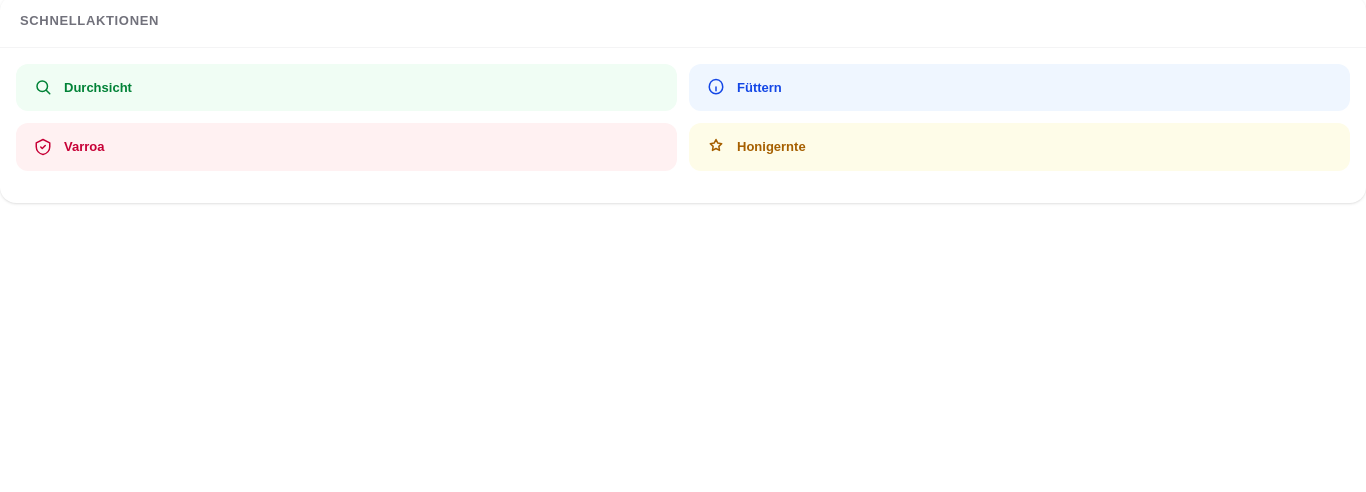
ColonyQuickActions › shows error message when API fails and does not refresh
Click the button "Füttern": (759, 87) [689,64,1350,111]
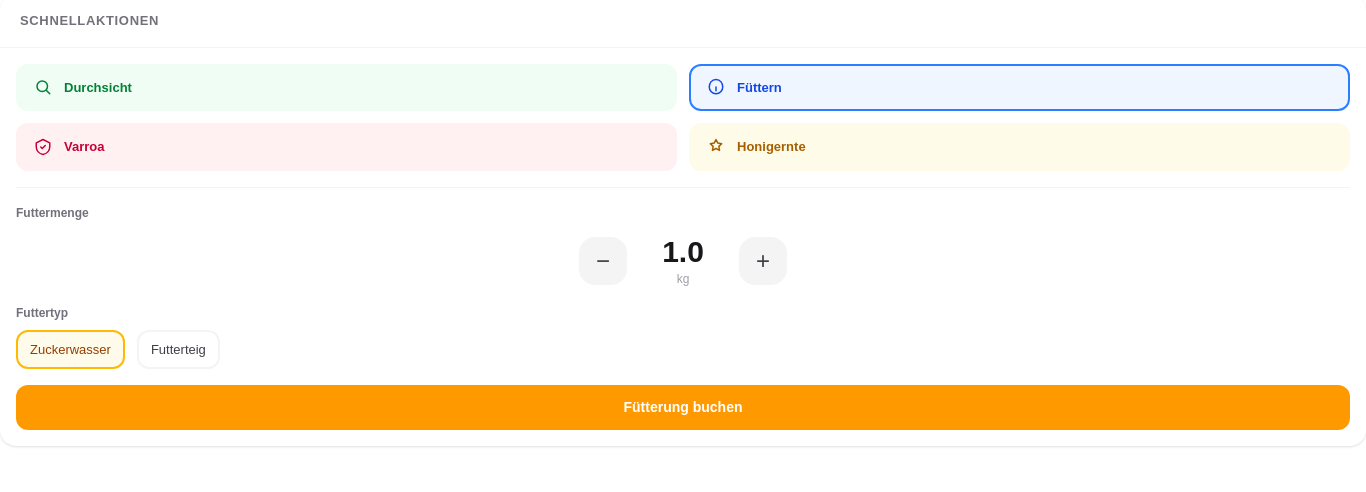
Click the button "Fütterung buchen": (683, 408) [16,385,1350,430]
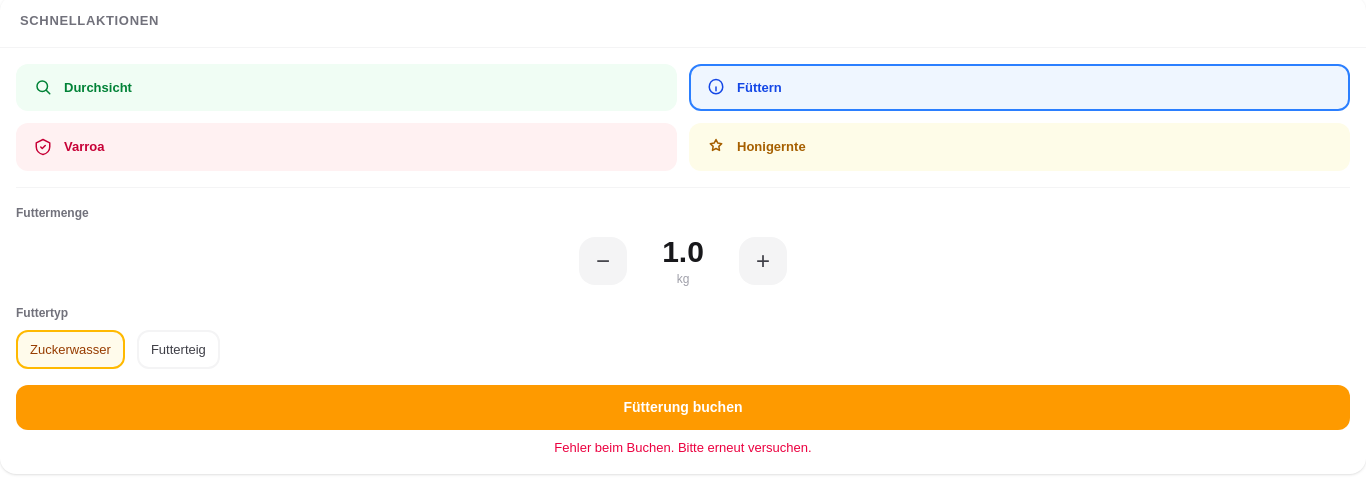
Expected: the button "Fütterung buchen" is shown, [16,385,1350,430]
Expected: the text "Fehler beim Buchen. Bitte erneut versuchen." is shown, [554,440,812,455]
